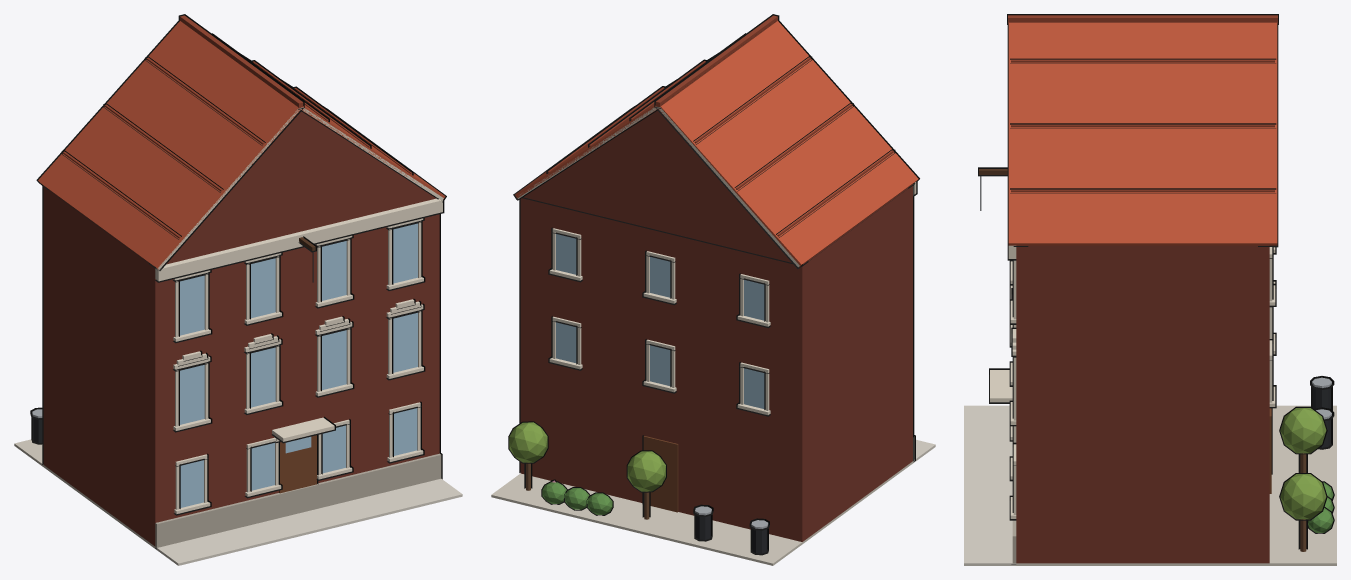
File: Blok_duz_3k_7.fbx
The picture shows the model from 3 angles, left to right: view 1: azimuth 30°, elevation 25°; view 2: azimuth 150°, elevation 25°; view 3: azimuth 270°, elevation 25°; orthographic projection. The views are drawn at different scales.
Parts seen in each view (by area): view 1: Blok_duz_3k_7; view 2: Blok_duz_3k_7; view 3: Blok_duz_3k_7.
Part boxes in pixels (bbox=[...]): Blok_duz_3k_7: bbox=[14, 14, 462, 565]; Blok_duz_3k_7: bbox=[491, 14, 935, 565]; Blok_duz_3k_7: bbox=[964, 14, 1336, 565].
Bounding box in the file's own units: 10.26 × 13.95 × 10.
